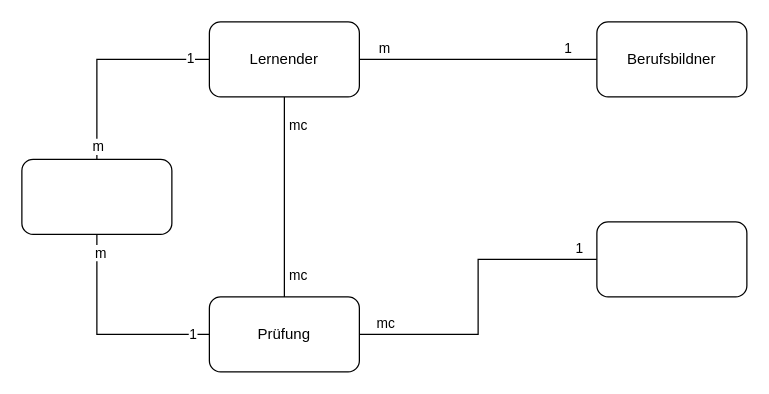
This 769x394 diagram has some shape labels left out. Each missing label, with the box of its shape:
Note: (21, 158, 172, 234)
Semester: (596, 221, 747, 297)
